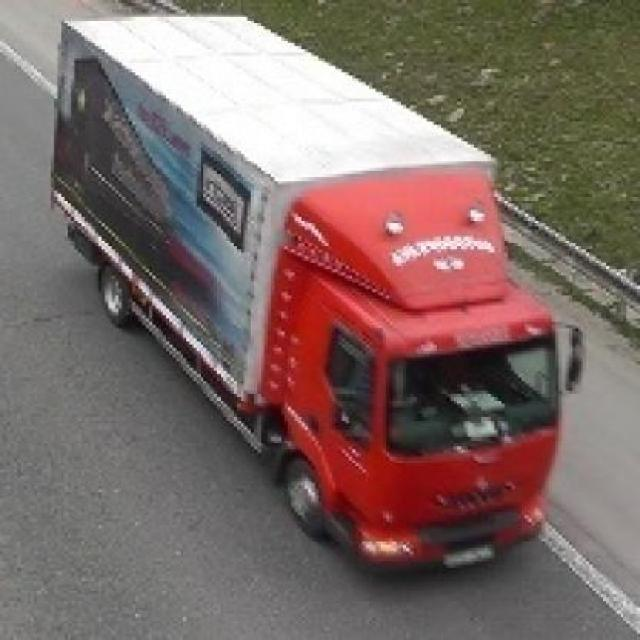truck: (51, 1, 580, 575)
